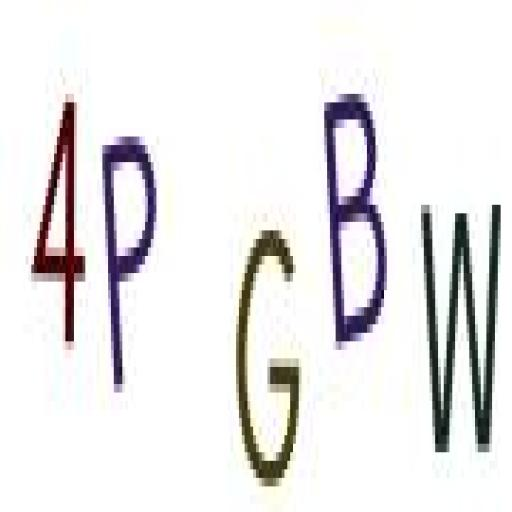4: (27, 73, 90, 362)
B: (322, 75, 396, 360)
G: (226, 205, 306, 506)
P: (98, 118, 161, 420)
W: (417, 194, 503, 466)
